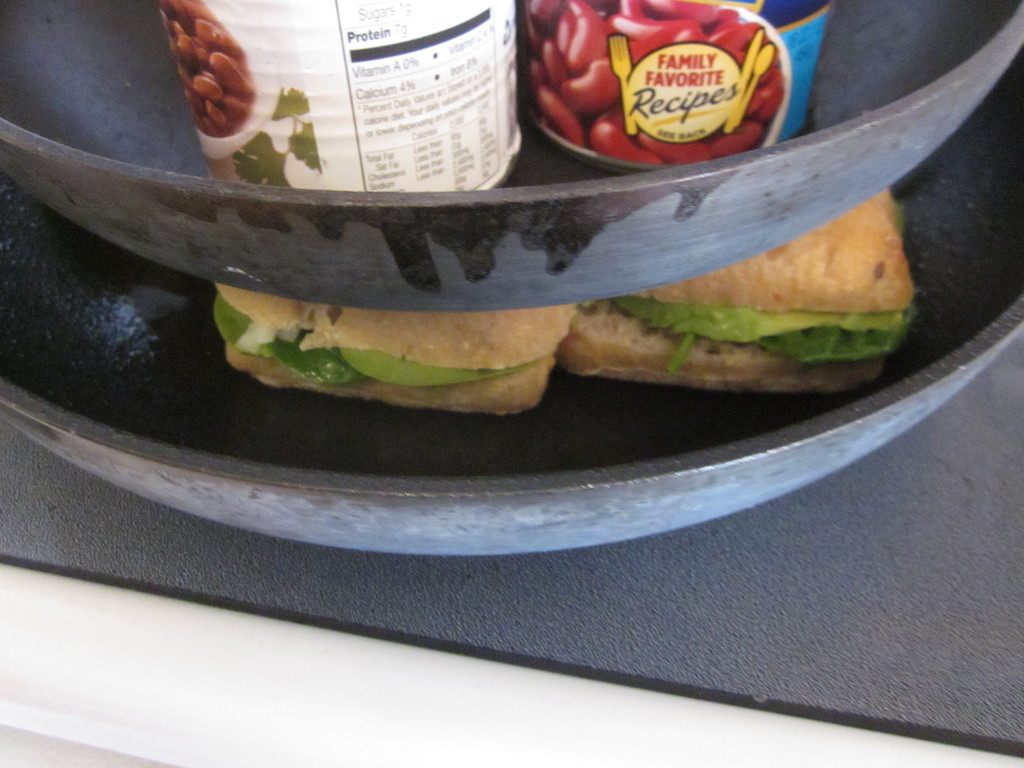Hamburger: (556, 185, 919, 394), (211, 280, 576, 414)
